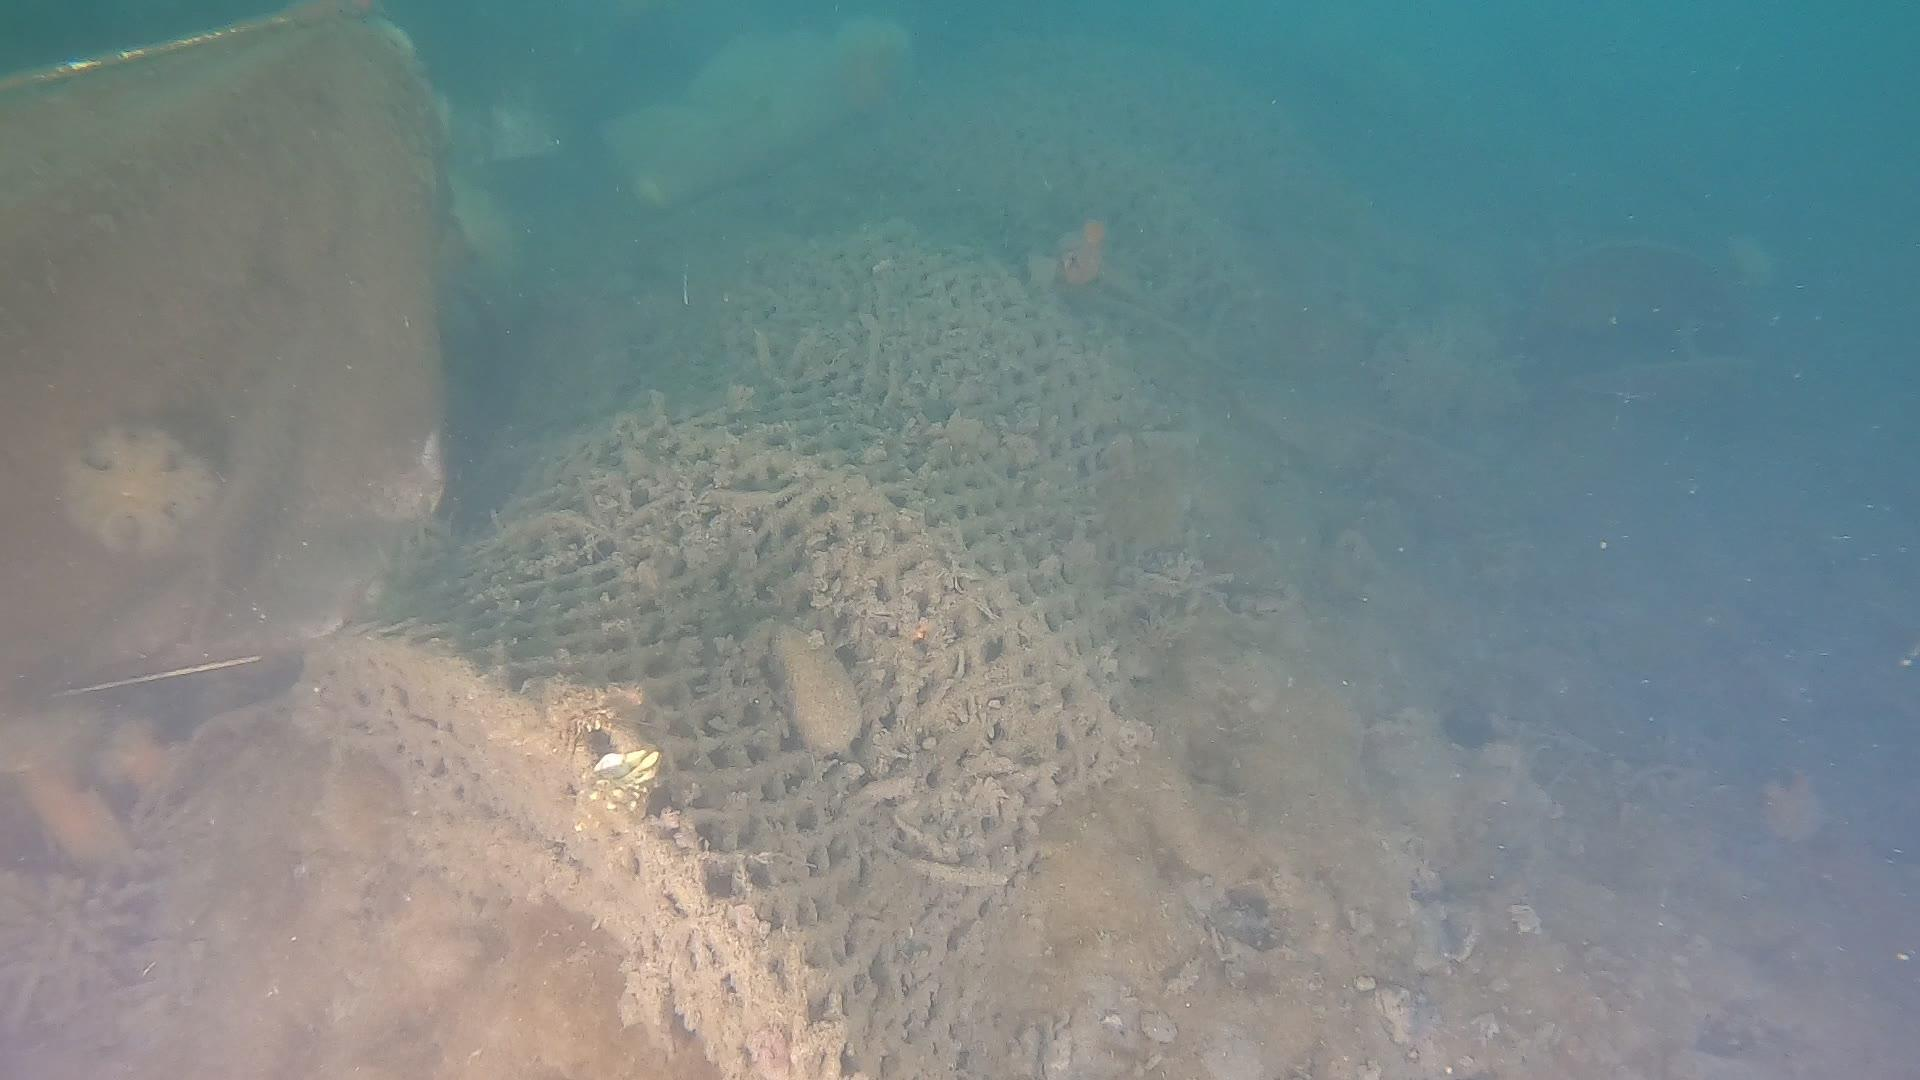spring fish trap: (286, 30, 1296, 1079)
